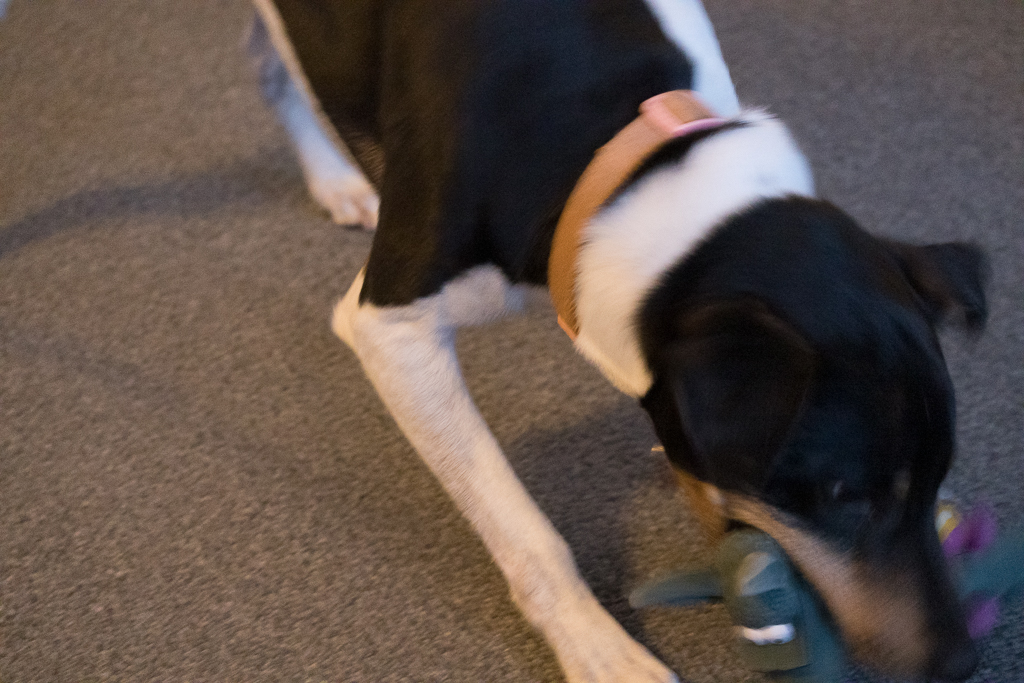Dog: (226, 0, 1003, 683)
Humanoid: (611, 482, 1024, 683)
